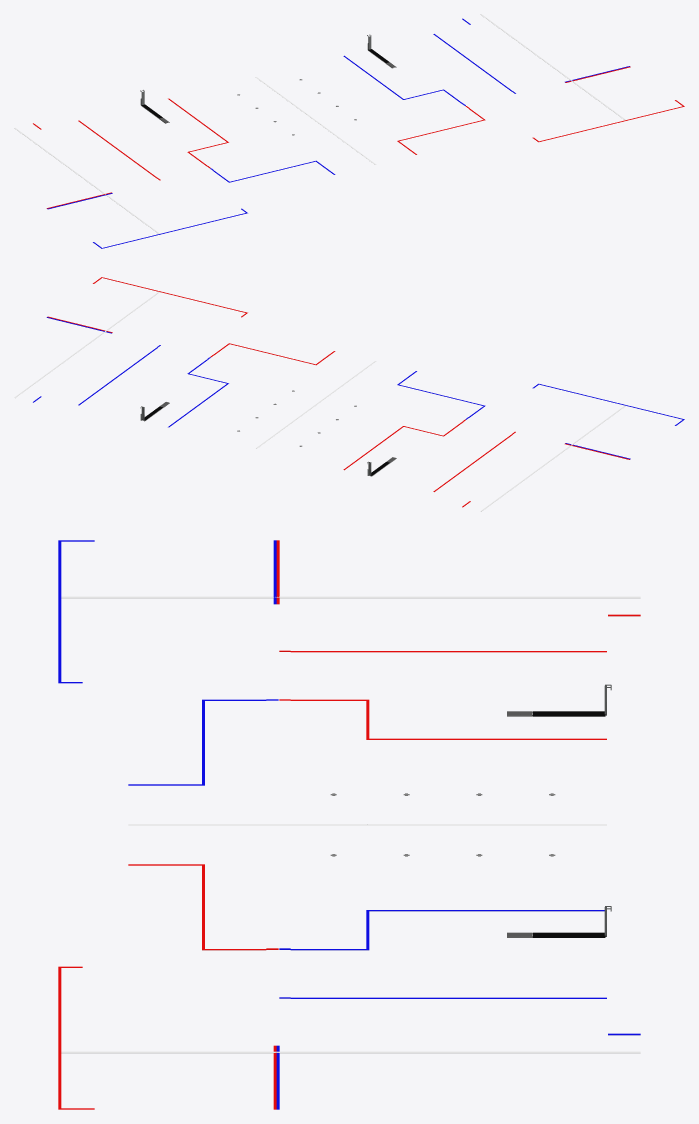
File: FieldMarkers.fbx
3 views of the same model, one above another, from view 1: azimuth 30°, elevation 25°; view 2: azimuth 150°, elevation 25°; view 3: azimuth 270°, elevation 25° (orthographic). The views are drawn at different scales.
Visible parts, largest first — view 1: no part large enough to name; view 2: no part large enough to name; view 3: Tape_StartingLine.001, Tape_StartingLine, Centerline Tape.
Part boxes in pixels (x1,y1,x2,y2): Tape_StartingLine.001: (61, 1051, 640, 1053); Tape_StartingLine: (61, 596, 640, 598); Centerline Tape: (128, 824, 606, 825).
Bounding box in the file's own units: 2256 × 52.7 × 975.
